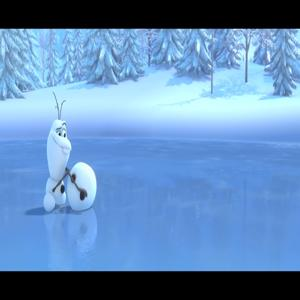olaf: (42, 93, 99, 223)
